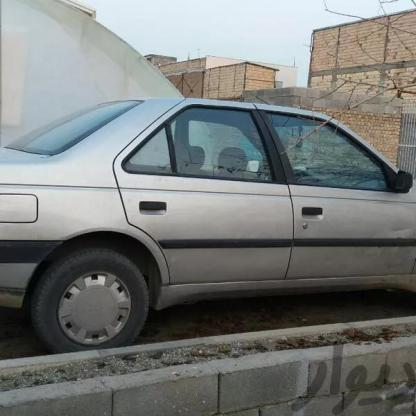Car: (0, 75, 416, 345)
